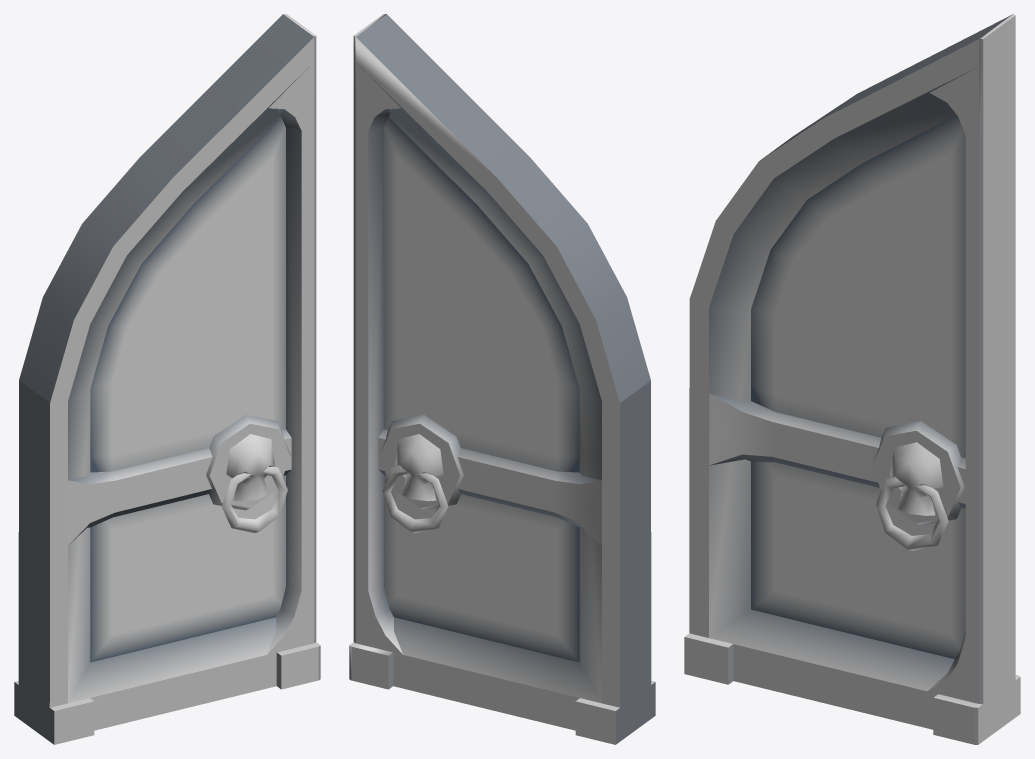
File: Door.gltf
The picture shows the model from 3 angles, left to right: view 1: azimuth 30°, elevation 25°; view 2: azimuth 150°, elevation 25°; view 3: azimuth 330°, elevation 25°; orthographic projection. The views are drawn at different scales.
Visible parts, largest first — view 1: DoorMesh; view 2: DoorMesh; view 3: DoorMesh.
Part boxes in pixels (x1,y1,x2,y2): DoorMesh: (14,14,320,744); DoorMesh: (349,14,655,744); DoorMesh: (684,14,1020,744).
Size of the model in its own units: 2.5 by 5.72 by 0.7104.
